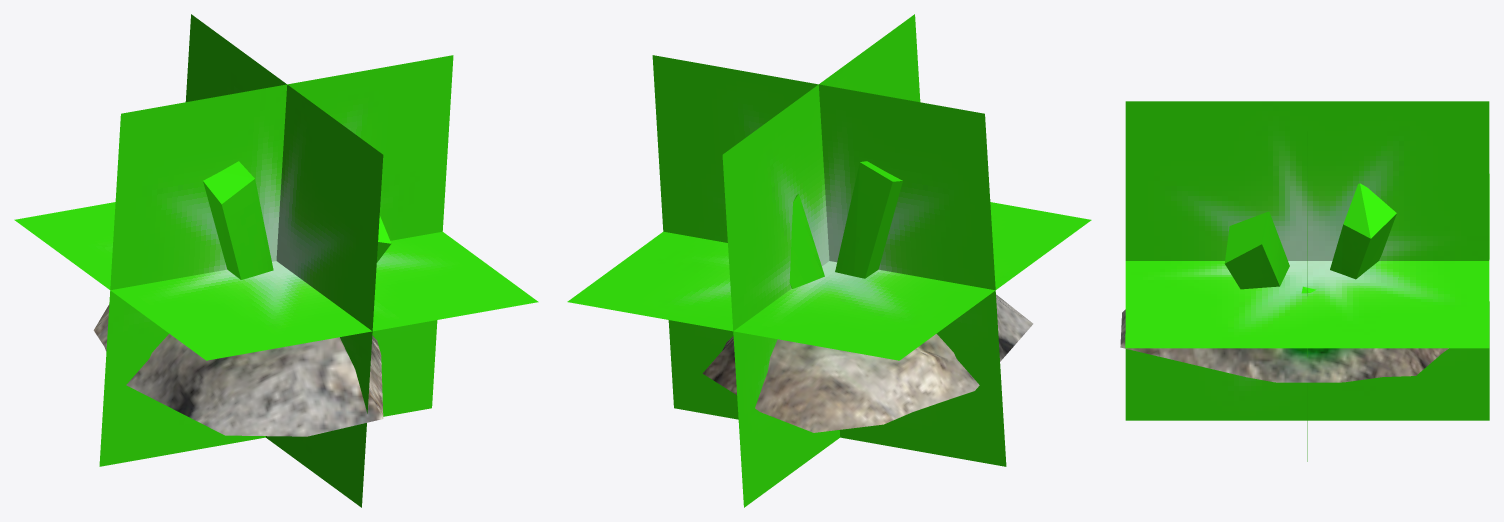
Rendered from crystals_enriched.FBX.
3 views of the same model, side by side, from view 1: azimuth 30°, elevation 25°; view 2: azimuth 150°, elevation 25°; view 3: azimuth 270°, elevation 25° (orthographic). The views are drawn at different scales.
Parts seen in each view (by area): view 1: crystals_enriched; view 2: crystals_enriched; view 3: crystals_enriched.
Part boxes in pixels (box(x1,y1,x2,y2)): crystals_enriched: box(14, 14, 538, 507); crystals_enriched: box(567, 14, 1091, 507); crystals_enriched: box(1120, 101, 1489, 461).
Size of the model in its own units: 2.03 by 2.03 by 1.94.
